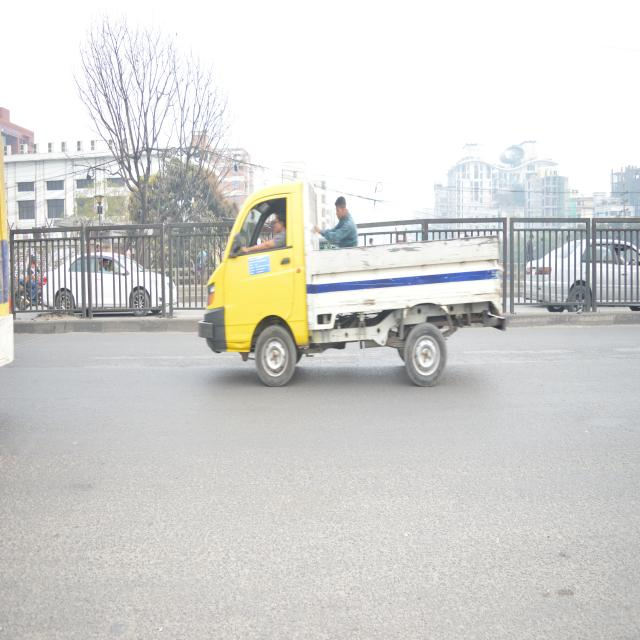car: (517, 217, 640, 312), (43, 252, 176, 324)
motorbike: (13, 267, 47, 316)
pickup-van: (197, 177, 508, 387)
